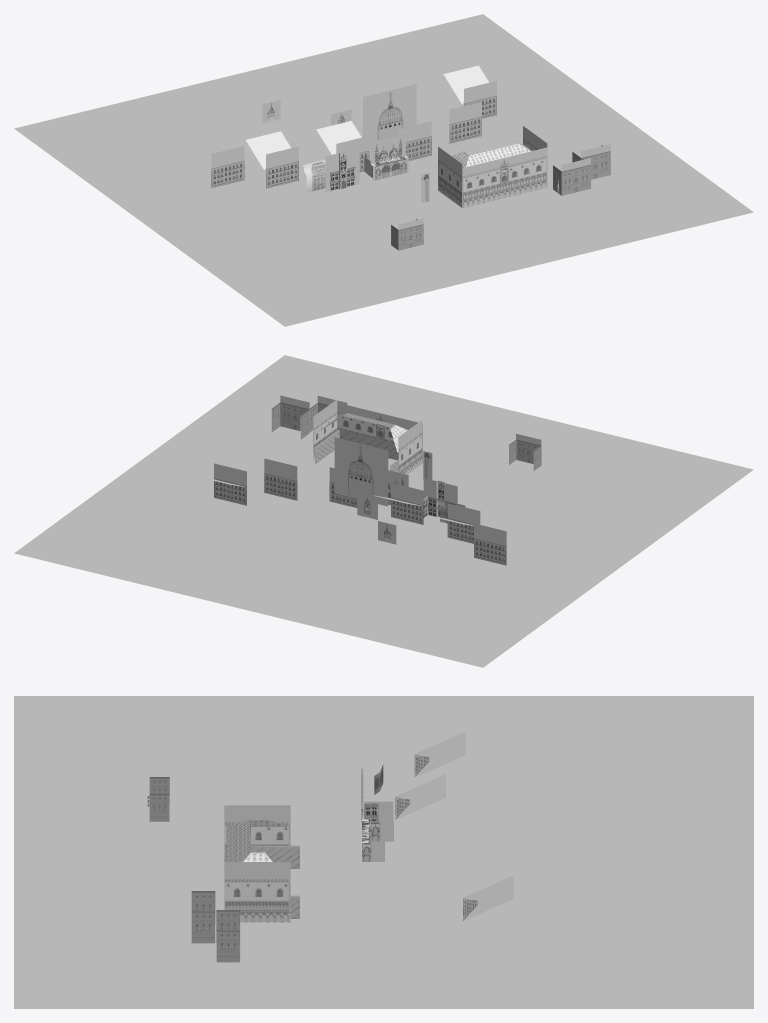
Rendered from venezia_specchio2.dae.
The picture shows the model from 3 angles, top to bottom: view 1: azimuth 30°, elevation 25°; view 2: azimuth 150°, elevation 25°; view 3: azimuth 270°, elevation 25°; orthographic projection. The views are drawn at different scales.
Visible parts, largest first — view 1: mare, palazzina (×6), basilica-p, cupola, palazzo (×3), palazzina_tetto (×2), chiesa, campanile, basilica2, palazzina_tetto.1, basilica-p_tetto, palazzo_antico; view 2: mare, palazzina (×5), cupola, basilica2 (×2), basilica-p, palazzo (×2), campanile, basilica-p_tetto_dietro; view 3: mare, basilica2 (×2), palazzina_tetto (×2), palazzo2 (×3), palazzina_tetto.1, basilica-p_tetto, basilica2_dietro, campanile-lato.
Boxes of the visible parts, <box> form: mare: <box>14,14,753,326</box>; palazzina (×6): <box>211,81,496,188</box>; basilica-p: <box>462,147,547,207</box>; cupola: <box>363,84,416,151</box>; palazzo (×3): <box>398,144,610,250</box>; palazzina_tetto (×2): <box>246,121,369,169</box>; chiesa: <box>370,134,408,180</box>; campanile: <box>325,148,359,191</box>; basilica2: <box>438,146,462,207</box>; palazzina_tetto.1: <box>443,65,488,103</box>; basilica-p_tetto: <box>465,143,530,166</box>; palazzo_antico: <box>303,159,325,192</box>; mare: <box>14,355,753,667</box>; palazzina (×5): <box>214,458,506,565</box>; cupola: <box>334,437,388,506</box>; basilica2 (×2): <box>313,399,422,474</box>; basilica-p: <box>337,403,422,463</box>; palazzo (×2): <box>280,395,541,465</box>; campanile: <box>423,478,457,516</box>; basilica-p_tetto_dietro: <box>339,429,398,459</box>; mare: <box>14,696,753,1008</box>; basilica2 (×2): <box>224,805,290,922</box>; palazzina_tetto (×2): <box>395,732,465,819</box>; palazzo2 (×3): <box>149,793,240,962</box>; palazzina_tetto.1: <box>463,875,513,921</box>; basilica-p_tetto: <box>226,819,250,861</box>; basilica2_dietro: <box>250,845,299,868</box>; campanile-lato: <box>364,801,393,821</box>.
Size of the model in its own units: 4117 by 1185 by 4117.
Materials: 25 (23 with a texture image).
